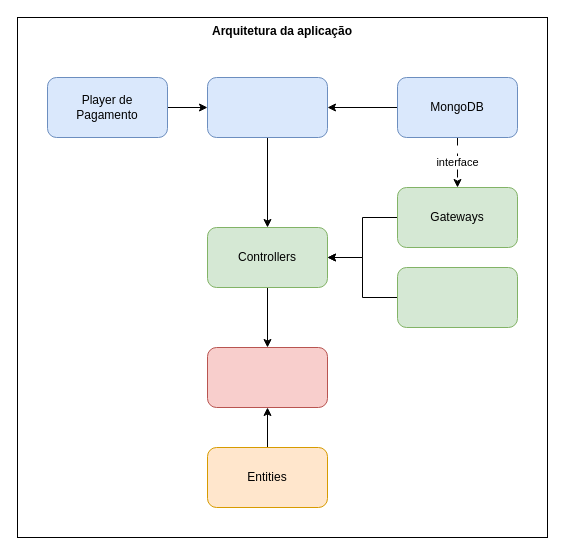
Image size: 565x555. Some labels were removed from this diagram. Each missing label, with the centre of its shape:
"API arquivos de rotas" goes at [267,107].
"Presenters" goes at [457,297].
"UseCases" goes at [267,377].
